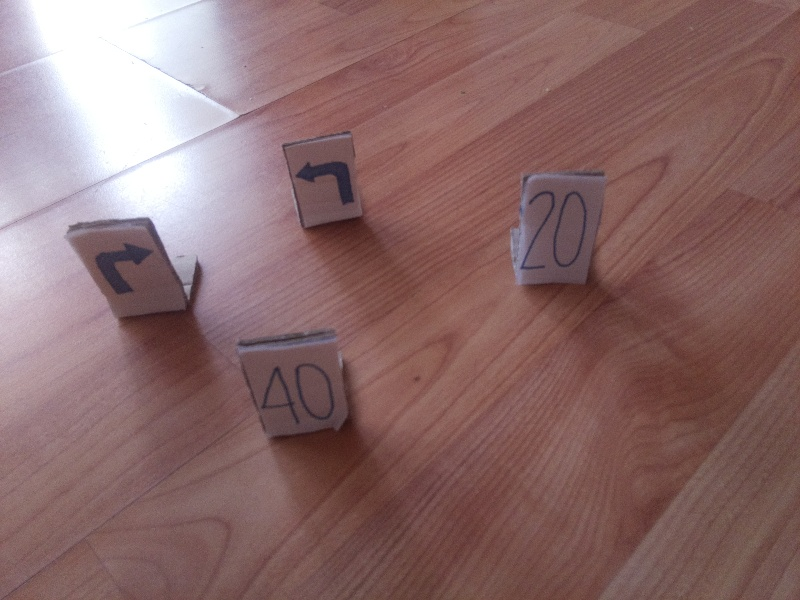20: (524, 189, 586, 276)
40: (259, 358, 340, 432)
turn left: (295, 156, 356, 207)
turn right: (91, 238, 157, 300)
